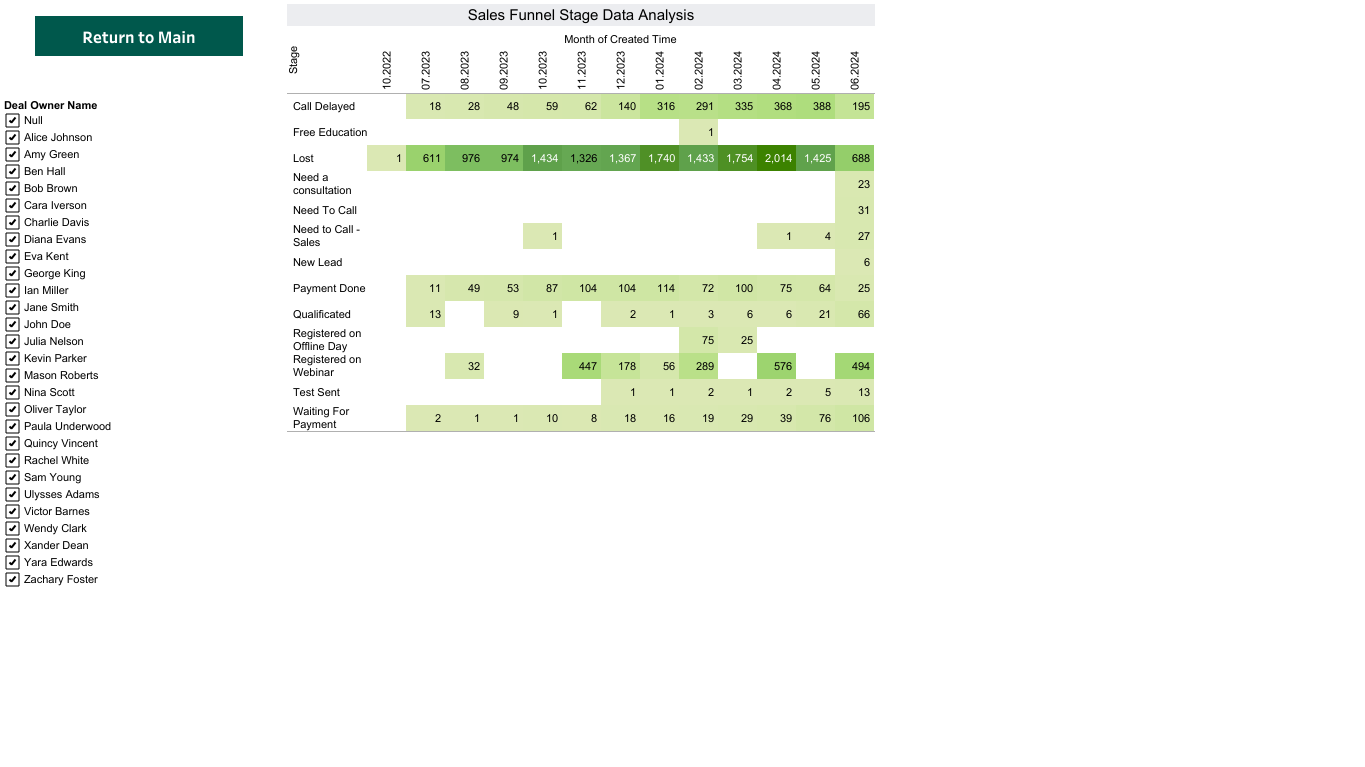

The page's visual inventory and layout, read from the dashboard file:
{"tool":"tableau","page":{"name":"Dashboard 4","canvas":[1000,800],"ordinal":1},"visuals":[{"type":"blank","box":[0,0,207,94]},{"type":"worksheet","title":"Sales Funnel Stage Data Analysis","mark":"Square","rows":["Stage"],"cols":["Created Time"],"box":[207,0,793,445]},{"type":"dashboard-object","box":[23,12,158,51]},{"type":"filter","title":"Sales Funnel Stage Data Analysis","param":"[federated.0rw05kn1itivdv1ffa89m1mvkha5].[none:Deal Owner Name:nk]","box":[0,94,207,550]}]}

Visuals, with their boxes on the page's 1000x800 design canvas (x1, y1, x2, y2). These are canvas units, not pixel positions in the 1365x767 screenshot, which may show the page scaled, cropped or inside an application window:
blank: Rect(0, 0, 207, 94)
"Sales Funnel Stage Data Analysis" worksheet (Square marks): Rect(207, 0, 1000, 445)
dashboard-object: Rect(23, 12, 181, 63)
"Sales Funnel Stage Data Analysis" filter: Rect(0, 94, 207, 644)
